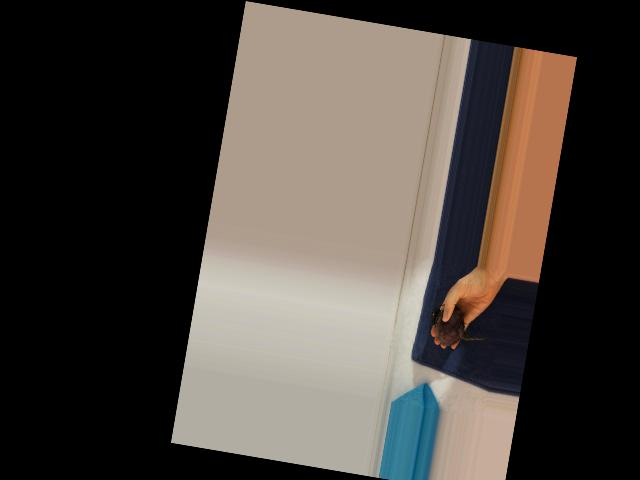beet: (427, 302, 490, 352)
